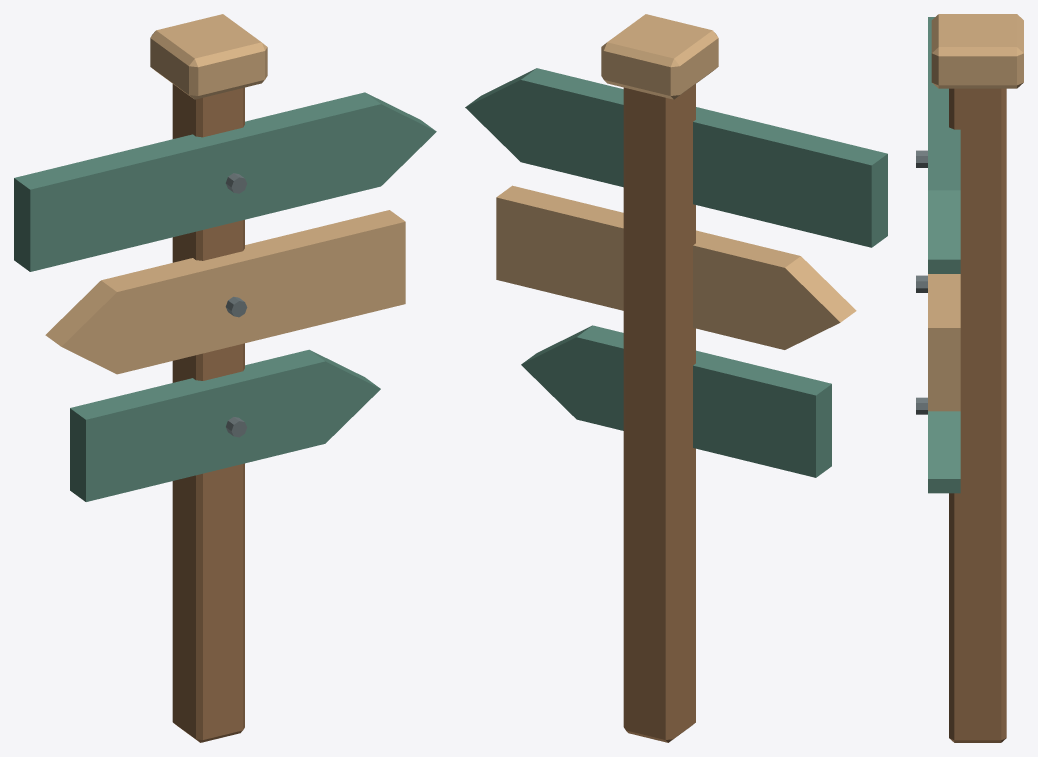
3 renders of one model, left to right at view 1: azimuth 30°, elevation 25°; view 2: azimuth 150°, elevation 25°; view 3: azimuth 270°, elevation 25°, orthographic.
Parts seen in each view (by area): view 1: village-direction-sign-01; view 2: village-direction-sign-01; view 3: village-direction-sign-01.
Boxes of the visible parts, x1,y1,x2,y2 form: village-direction-sign-01: (14,14,436,742); village-direction-sign-01: (465,14,887,742); village-direction-sign-01: (916,14,1023,742).
Size of the model in its own units: 1.24 by 2.02 by 0.281.
